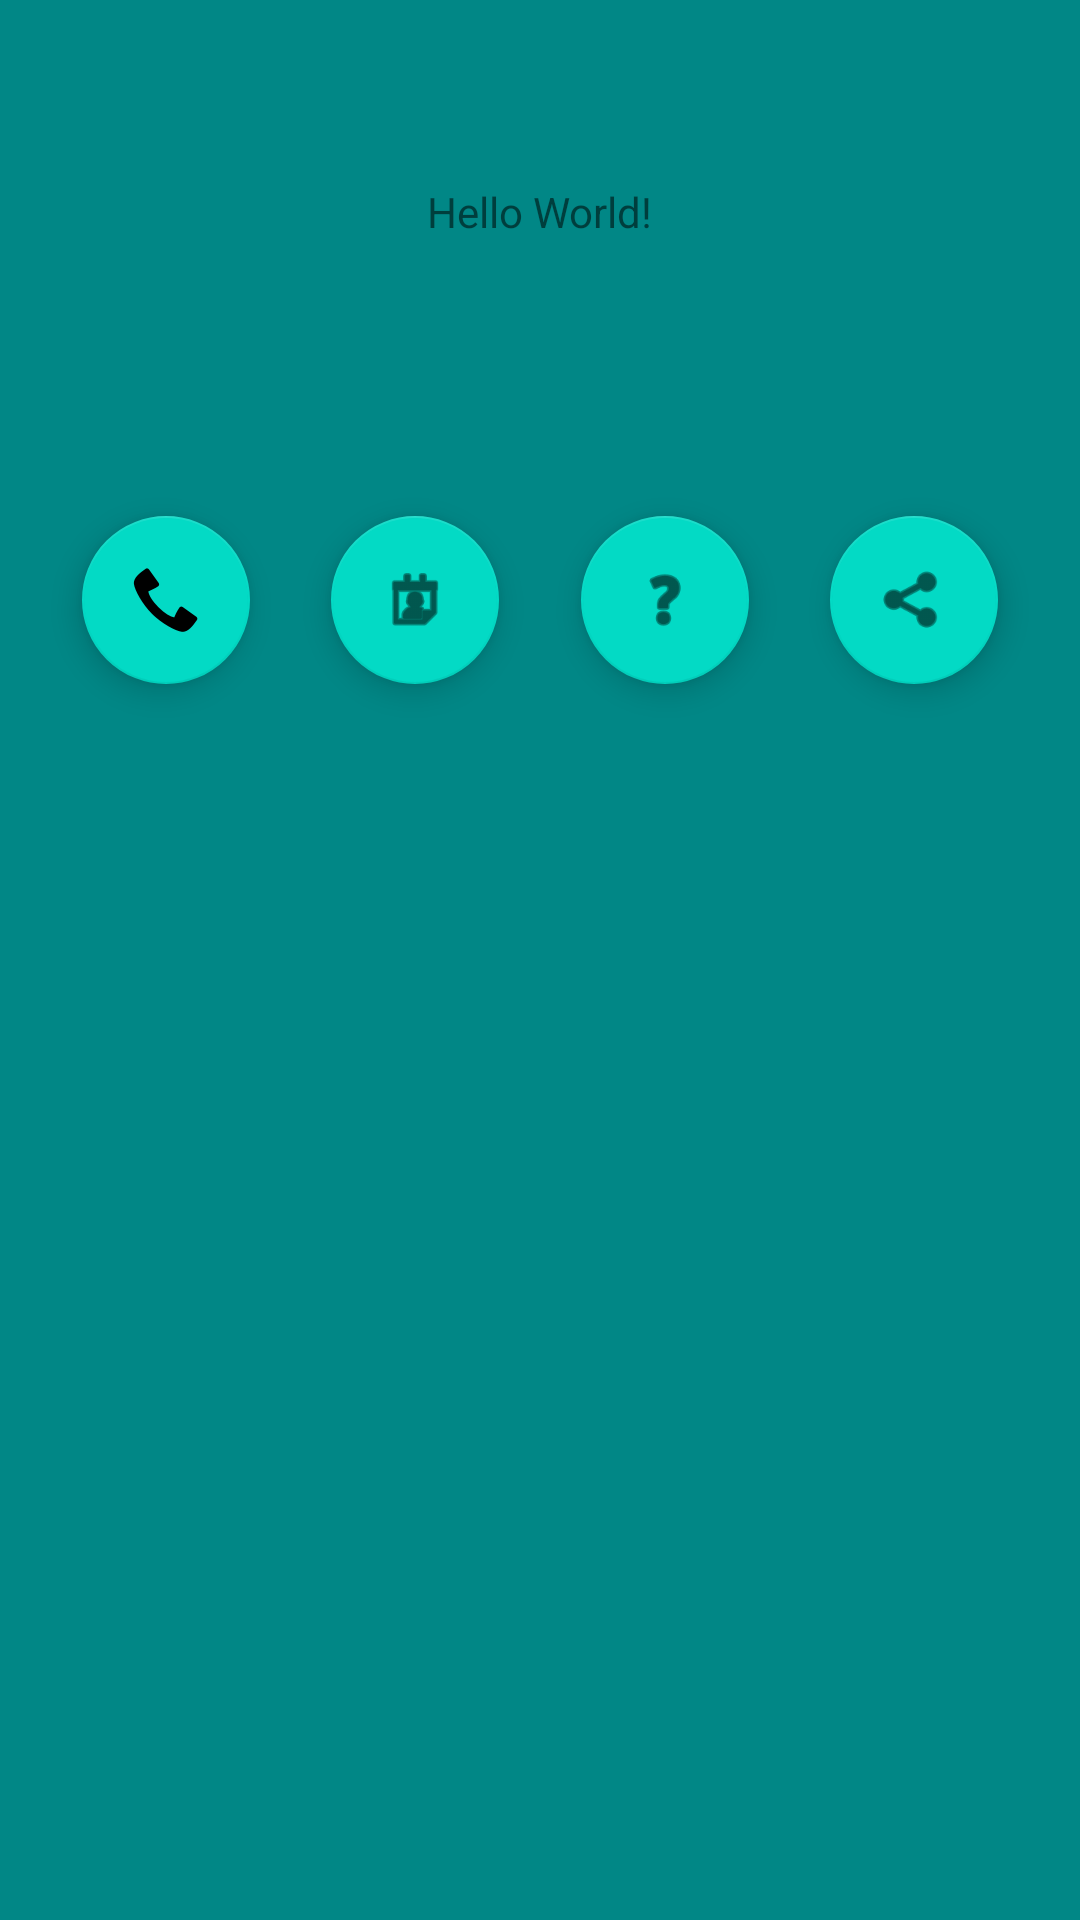

Named icons in this screenshot (1080 × 1920) and their centers, [x,y]:
Call a dev: [166,600]
Share somewhere: [914,600]
